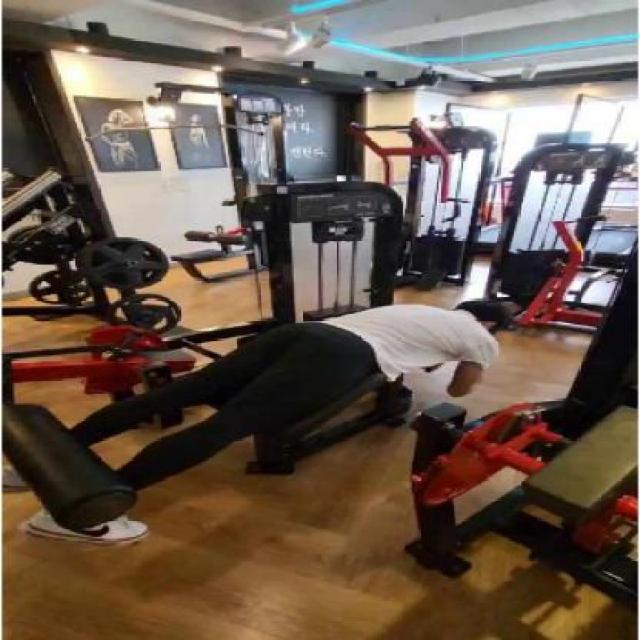reg curl machine: (0, 174, 525, 568)
